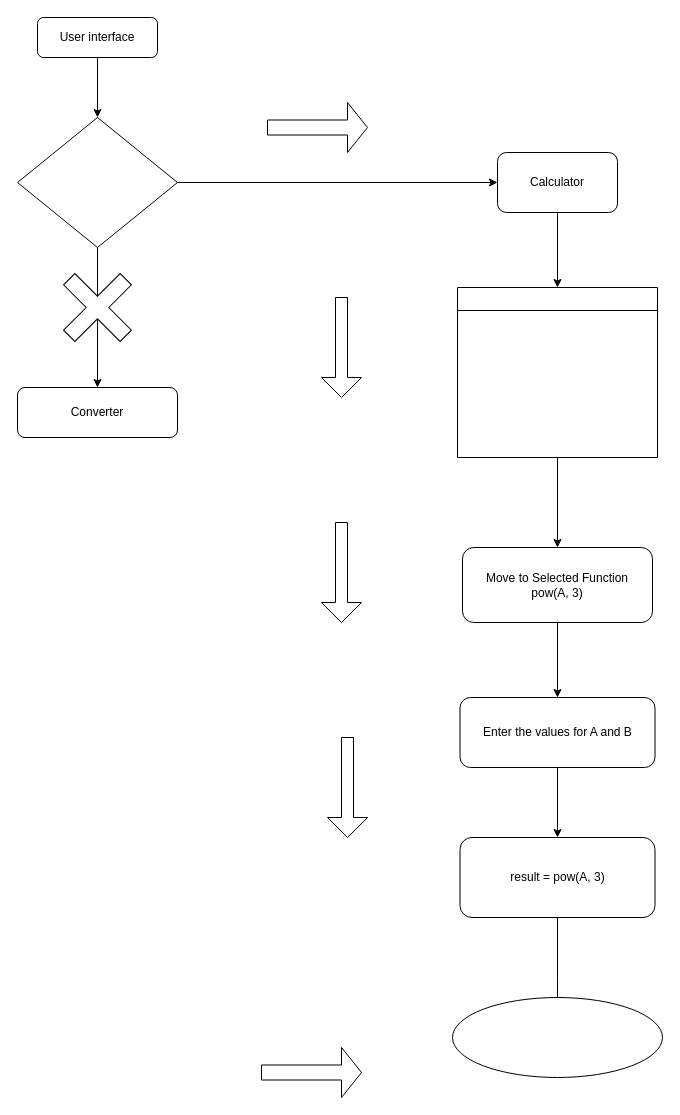
The diagram is 680 pixels wide and 1115 high, and some of its shapes have lost their labels. The box of each missing label's shape, as (x1, y1, x2, y2) in pixels:
Calculator /Converter: (16, 116, 178, 248)
Function of Calculator 8.A pow(3): (456, 286, 658, 458)
Result for the user: (452, 996, 662, 1078)
